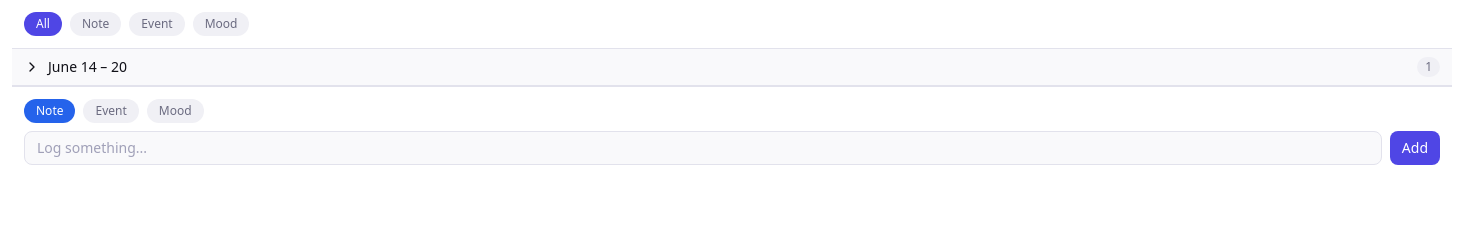
RapidLogFeed › weekly sections › clicking a collapsed week header reveals its entries
Click the button "June 14 – 20 1" at (87, 66), box [12, 49, 1452, 86]
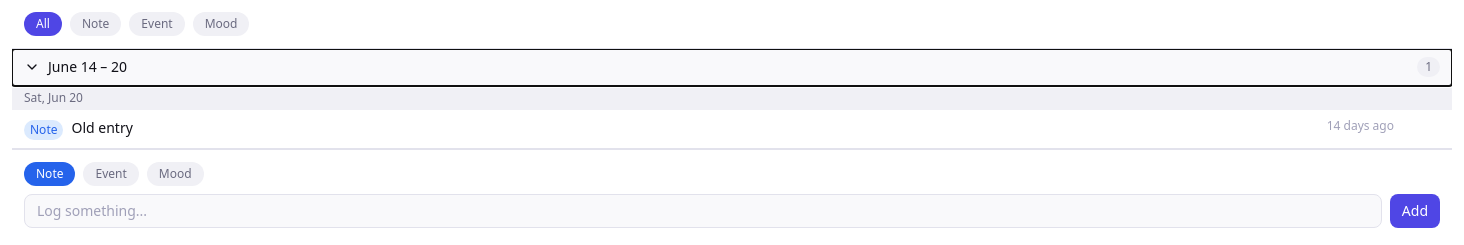
Now the text "Old entry" is shown, box [72, 118, 133, 137]
